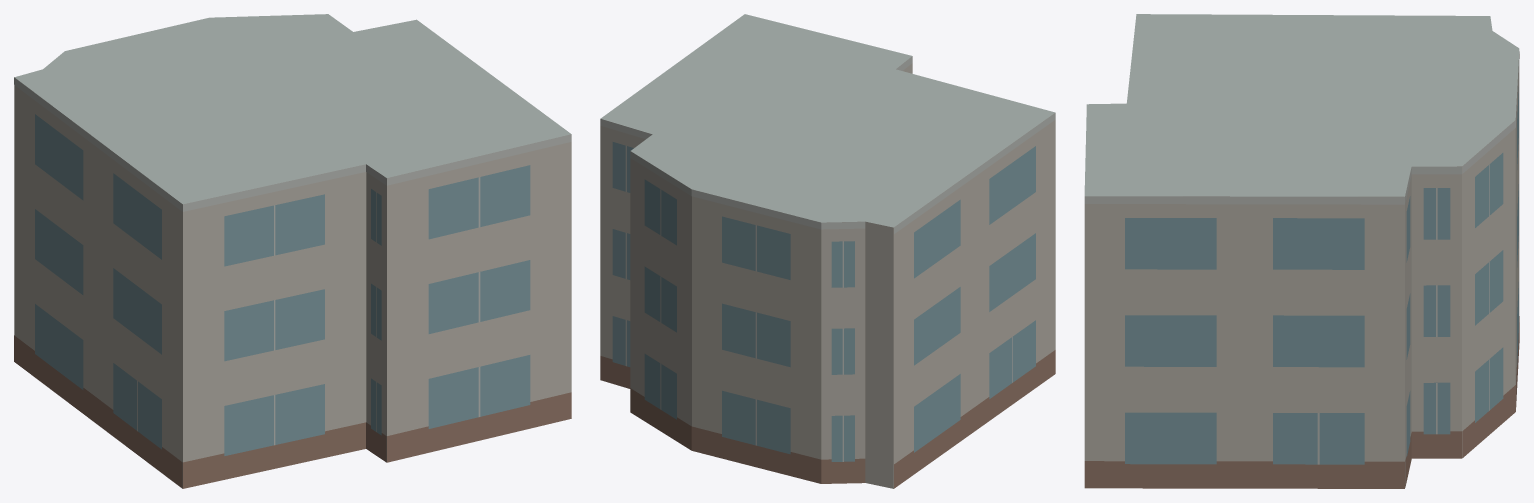
File: survey-upis-33001409.glb
3 views of the same model, side by side, from view 1: azimuth 30°, elevation 25°; view 2: azimuth 150°, elevation 25°; view 3: azimuth 270°, elevation 25° (orthographic). The views are drawn at different scales.
Parts seen in each view (by area): view 1: survey-upis-33001409.tmp; view 2: survey-upis-33001409.tmp; view 3: survey-upis-33001409.tmp.
Boxes of the visible parts, box(x1,y1,x2,y2) form: survey-upis-33001409.tmp: box(14, 14, 571, 488); survey-upis-33001409.tmp: box(600, 14, 1055, 488); survey-upis-33001409.tmp: box(1084, 14, 1519, 488).
Bounding box in the file's own units: 12.29 × 9.15 × 12.36.
